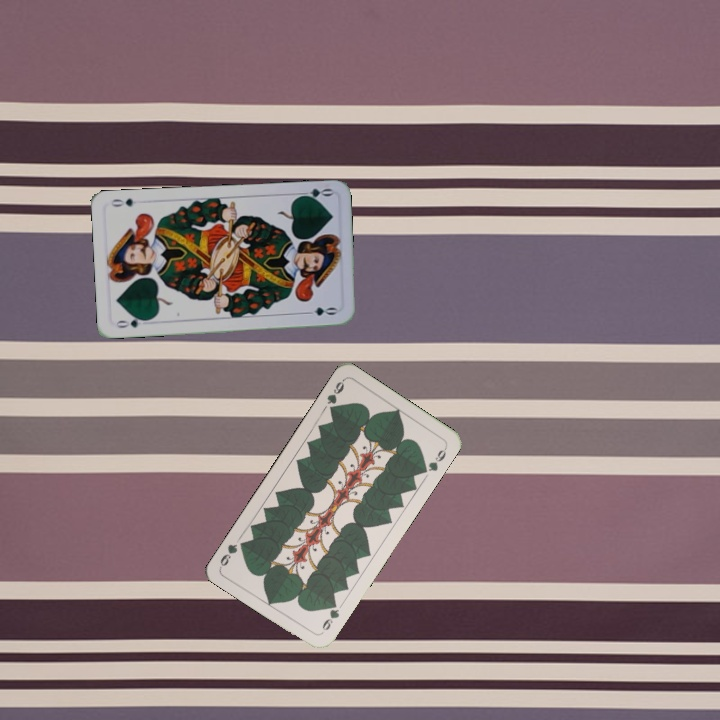G9: (323, 375, 347, 415), (318, 598, 342, 633)
GO: (294, 184, 334, 203), (112, 313, 152, 330)
